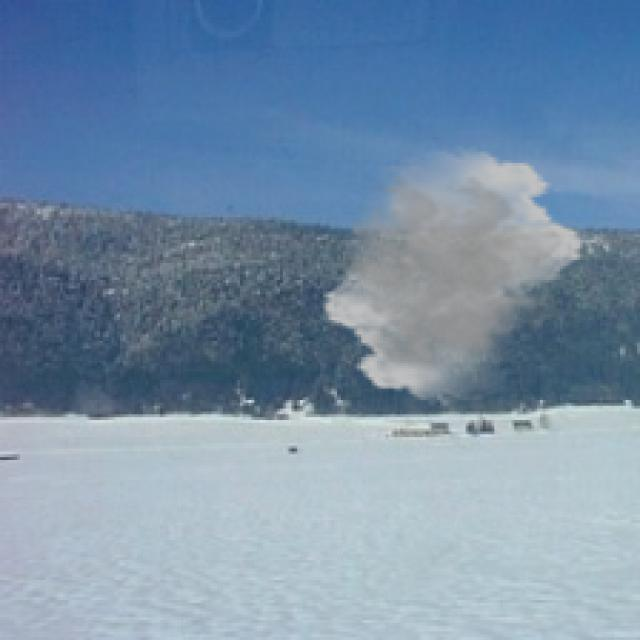Smoke: (320, 146, 586, 406)
